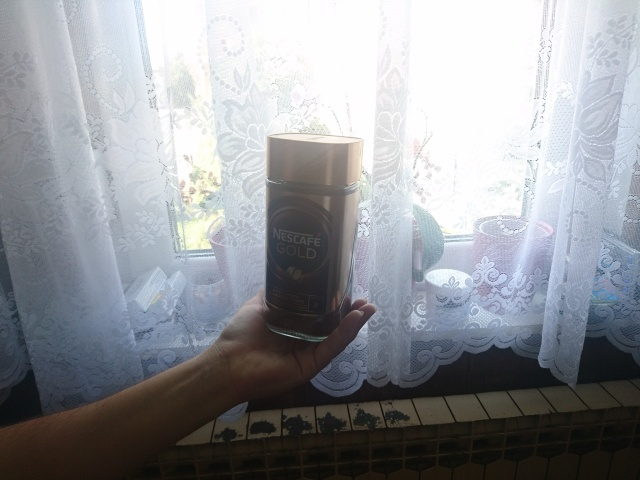Nescafe Gold 225g: (261, 129, 366, 345)
